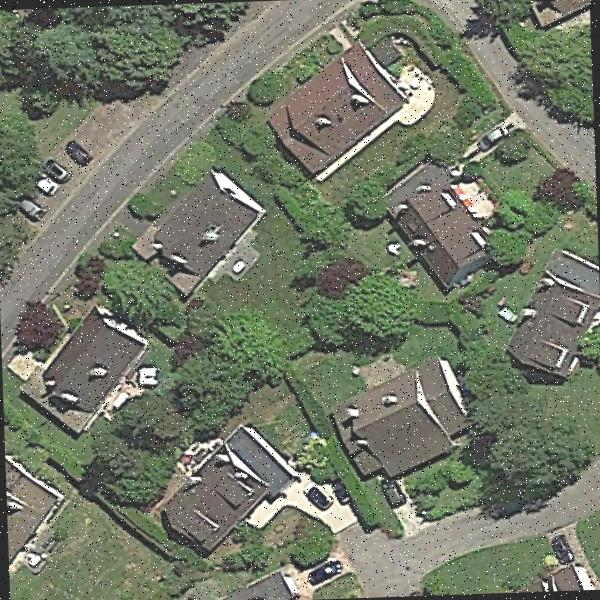Buildings: (276, 40, 398, 167), (164, 428, 284, 550), (338, 362, 461, 466), (512, 255, 600, 373), (156, 168, 258, 268), (406, 164, 479, 284), (48, 316, 140, 404), (5, 462, 66, 574), (210, 564, 300, 600), (518, 560, 600, 592)
